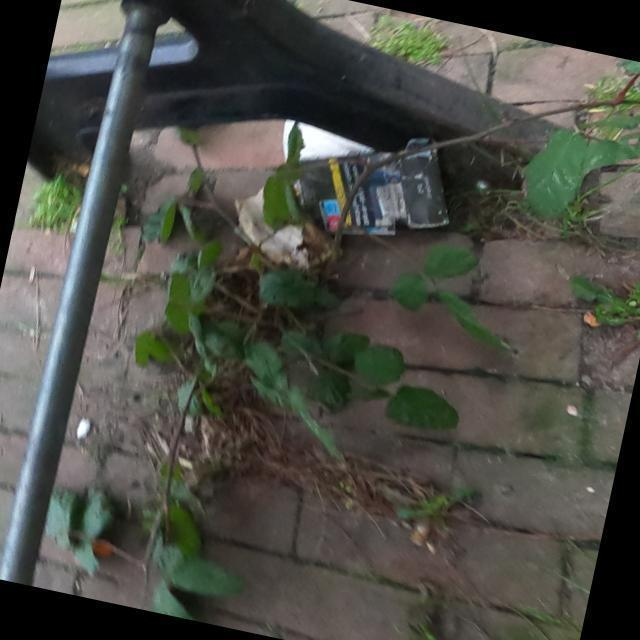Paper: (290, 136, 450, 237)
